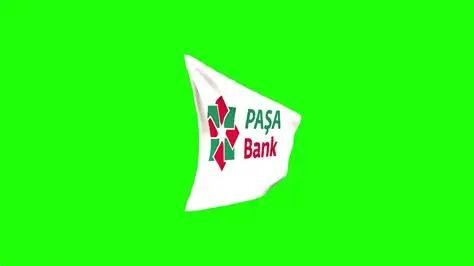Pasha Bank: (203, 93, 240, 173)
